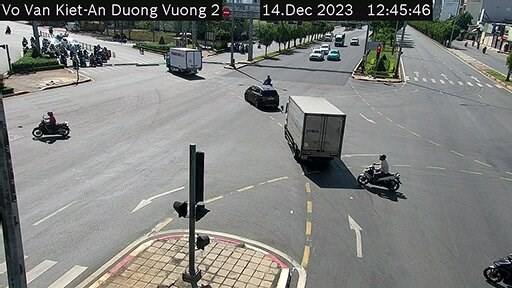car: (245, 83, 284, 105), (302, 48, 328, 61), (325, 46, 339, 61), (319, 40, 333, 53), (348, 33, 358, 46)
motorbike: (29, 106, 78, 148), (363, 156, 400, 197), (495, 247, 512, 286), (258, 67, 273, 89)
truck: (283, 94, 344, 165), (157, 43, 206, 79), (334, 31, 347, 46)
